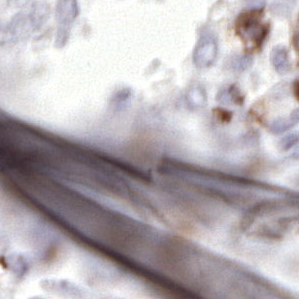Lymphocyte: (230, 9, 275, 48)
